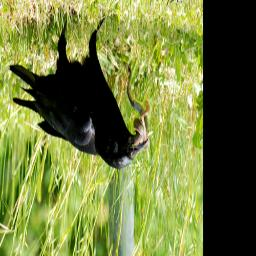Crow: (11, 16, 150, 170)
